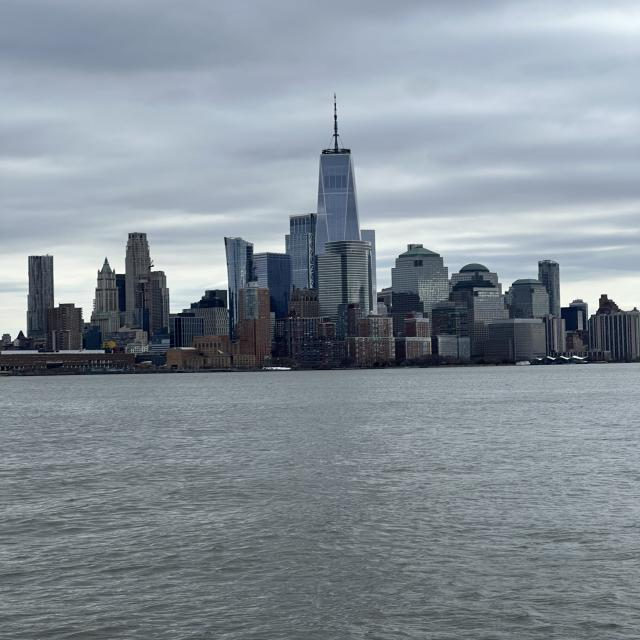WTC: (314, 92, 362, 249)
